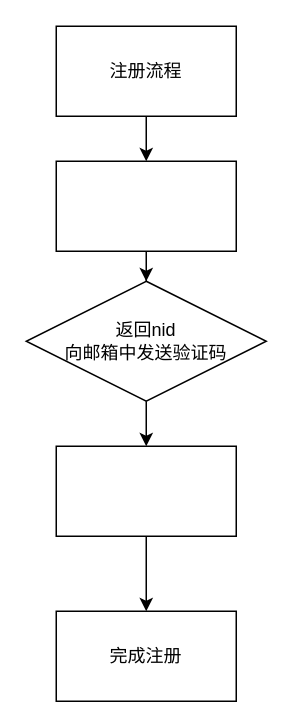
This 293x728 diagram has some shape labels left out. Each missing label, with the centre of its shape:
传入nid 和获取的验证码: pixel 145 490
传入邮箱用户名密码: pixel 145 205
